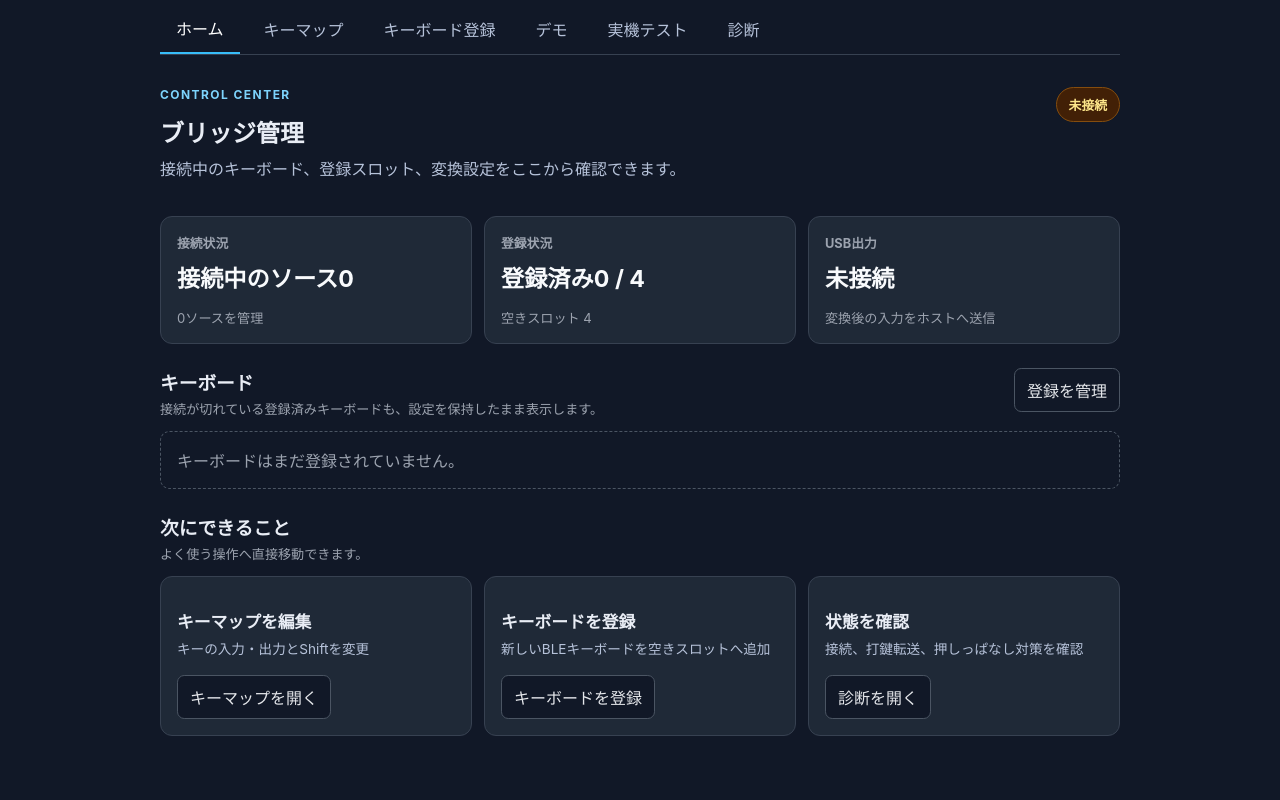
Test: bridge configuration › opens keyboard registration from the management quick actions
(page scrolled)
Click the button "キーボードを登録" at (578, 697), box top-left (501, 675), bottom-right (655, 718)
(page scrolled)
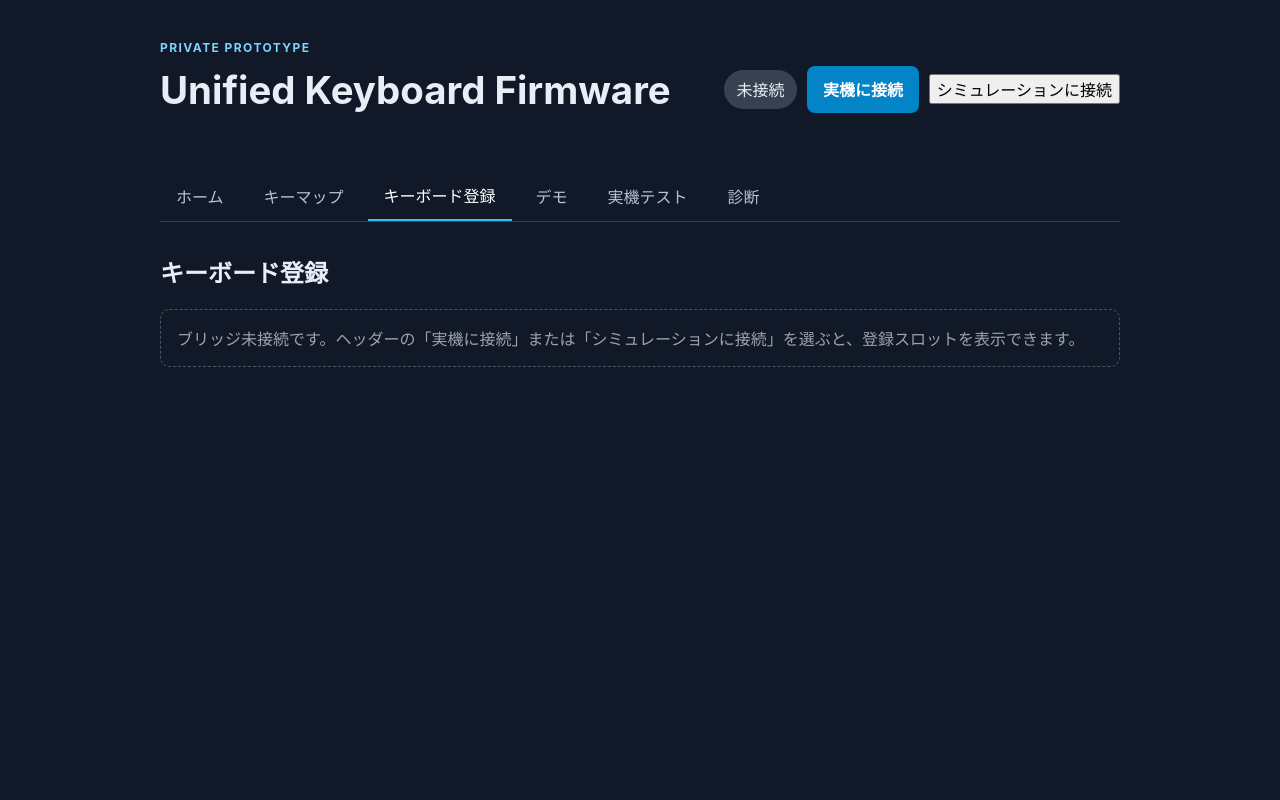
Expected: the text "ブリッジ未接続です。ヘッダーの「実機に接続」または「シミュレーションに接続」を選ぶと、登録スロットを表示できます。" is shown, top-left (160, 309), bottom-right (1120, 367)
